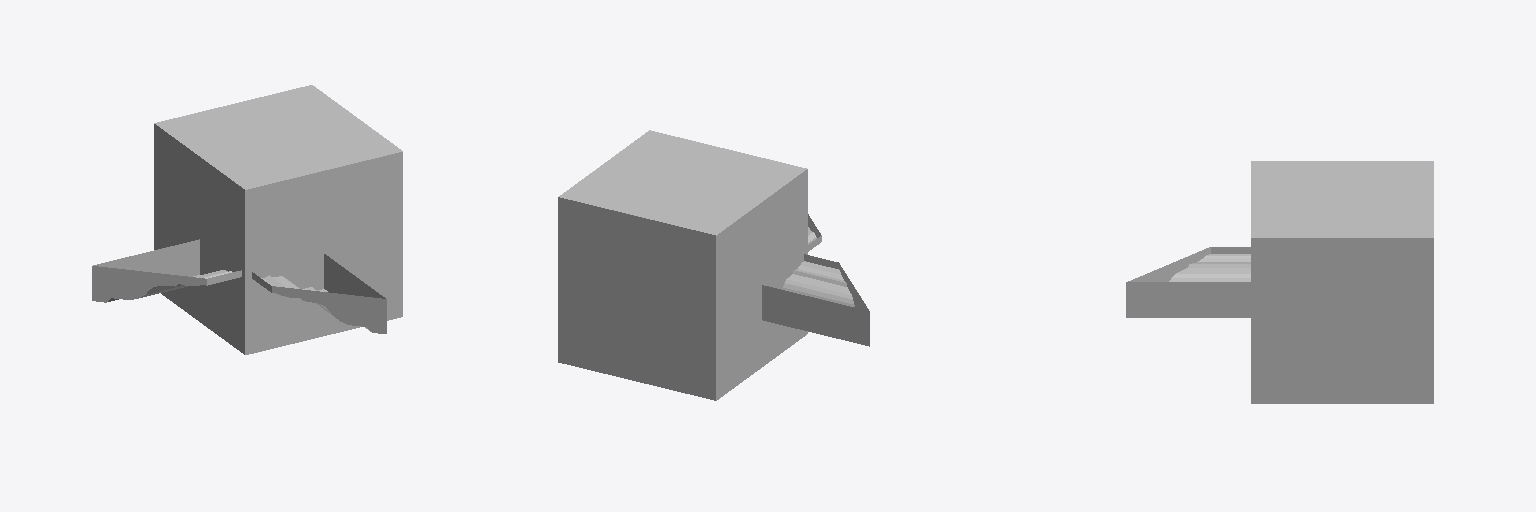
The model's file is frame_lower_left.obj.
3 views of the same model, side by side, from view 1: azimuth 30°, elevation 25°; view 2: azimuth 150°, elevation 25°; view 3: azimuth 270°, elevation 25° (orthographic).
Parts seen in each view (by area): view 1: Cube.001, frame_lower_left; view 2: Cube.001, frame_lower_left; view 3: Cube.001, frame_lower_left.
Boxes of the visible parts, x1=… form: Cube.001: x1=154, y1=85, x2=402, y2=354; frame_lower_left: x1=92, y1=239, x2=386, y2=333; Cube.001: x1=558, y1=130, x2=807, y2=400; frame_lower_left: x1=762, y1=214, x2=869, y2=346; Cube.001: x1=1251, y1=161, x2=1433, y2=403; frame_lower_left: x1=1126, y1=247, x2=1250, y2=317.
Bounding box in the file's own units: 0.0496 × 0.0295 × 0.0496.